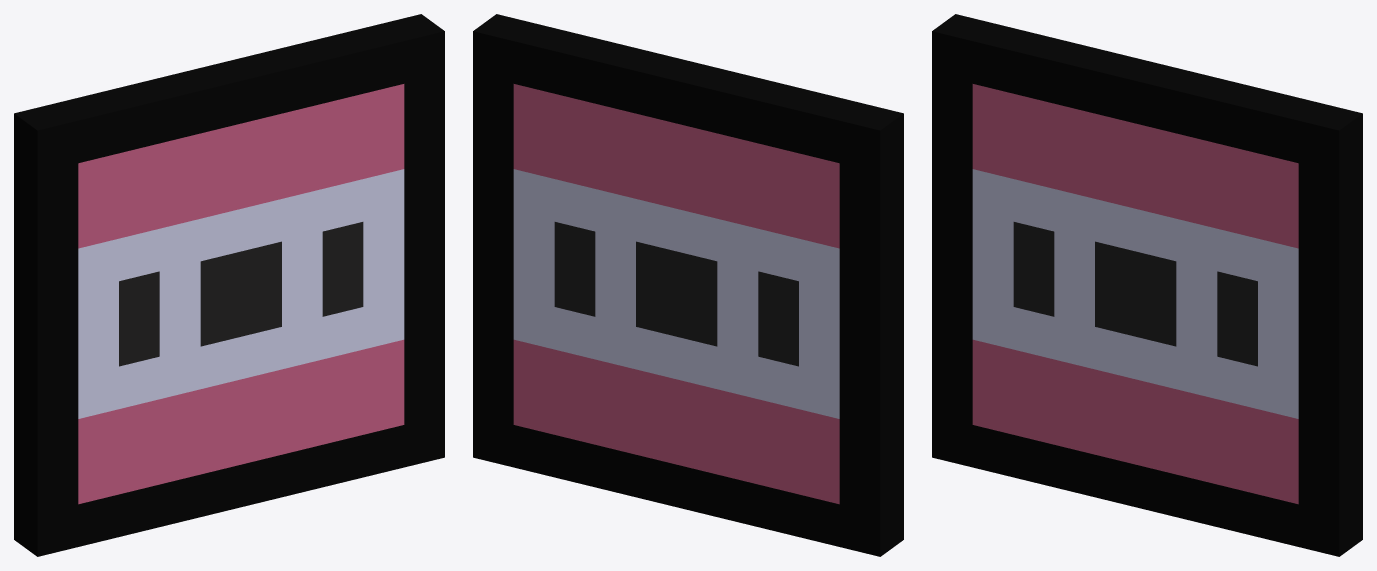
File: Pink Paintball Explosive Item.glb
3 renders of one model, left to right at view 1: azimuth 30°, elevation 25°; view 2: azimuth 150°, elevation 25°; view 3: azimuth 330°, elevation 25°, orthographic.
Parts seen in each view (by area): view 1: generated; view 2: generated; view 3: generated.
Part boxes in pixels (x1,y1,x2,y2): generated: [14, 14, 444, 556]; generated: [473, 14, 903, 556]; generated: [932, 14, 1362, 556].
Bounding box in the file's own units: 10 × 10 × 1.
1 material, 1 textured.
